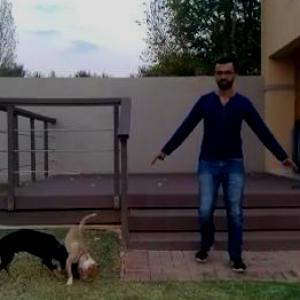land: (151, 63, 299, 279)
